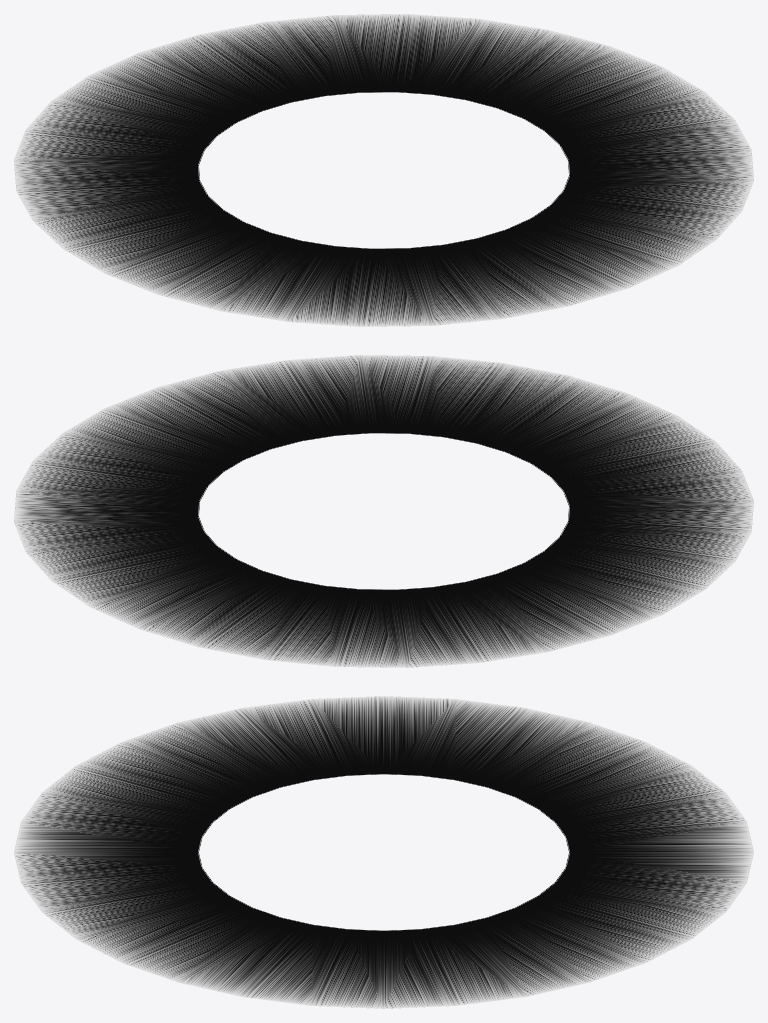
File: donut.obj
3 renders of one model, top to bottom at view 1: azimuth 30°, elevation 25°; view 2: azimuth 150°, elevation 25°; view 3: azimuth 270°, elevation 25°, orthographic.
Visible parts, largest first — view 1: 円; view 2: 円; view 3: 円.
Boxes of the visible parts, box(x1,y1,x2,y2) form: 円: box(14, 14, 753, 326); 円: box(14, 355, 753, 667); 円: box(14, 696, 753, 1008).
Size of the model in its own units: 2 by 0 by 2.
Materials: 1 (1 with a texture image).
